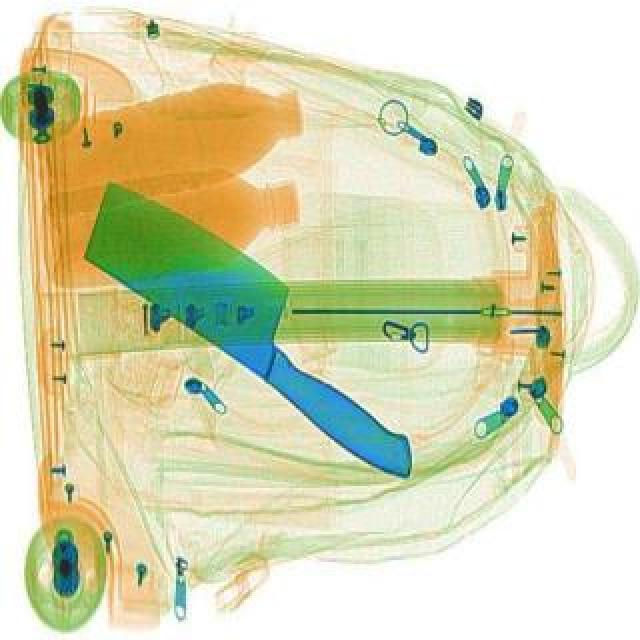knife: (50, 164, 466, 492)
